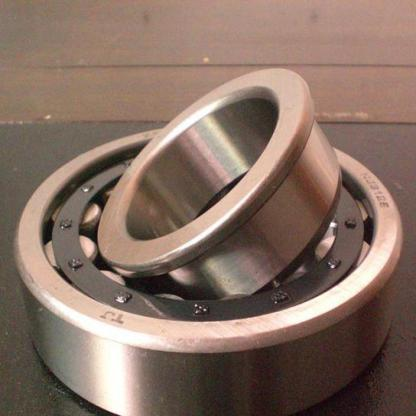FOD: (15, 63, 416, 414)
